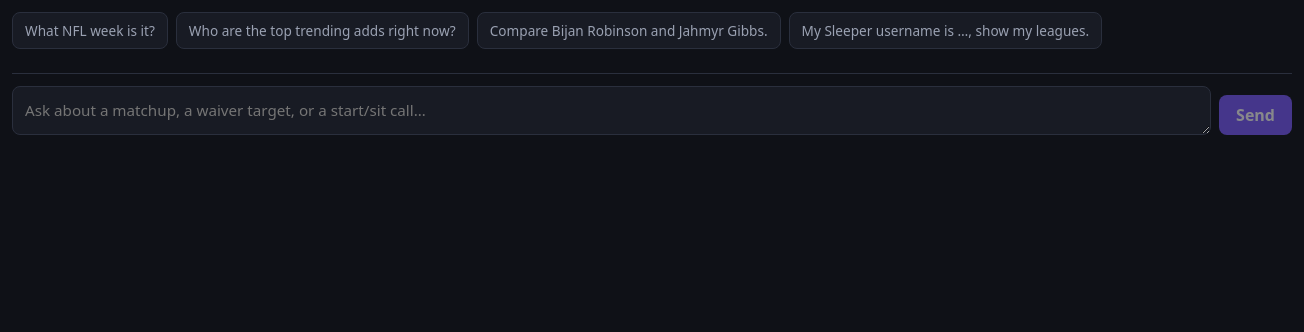
Test: ChatPage › surfaces a model error
Type "hi" into the text box labelled "Ask about a matchup, a waiver target, or a start/sit call…". click: (612, 110)
box: left=12, top=86, right=1211, bottom=135
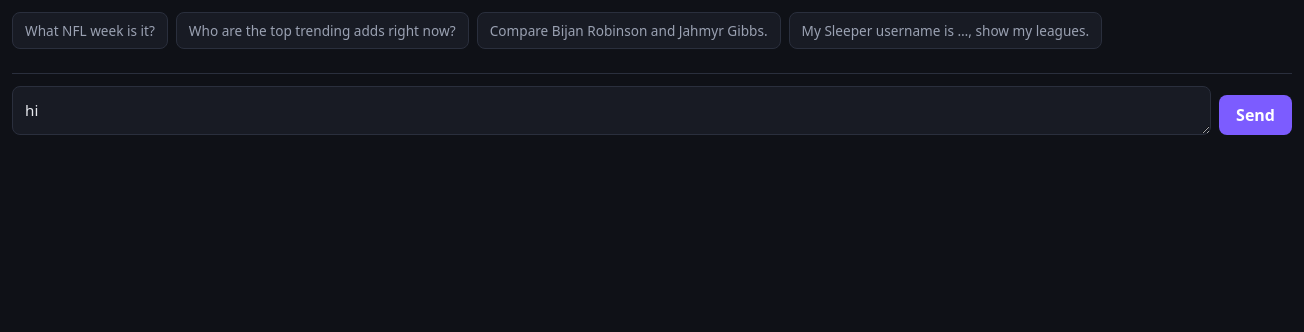
Click the button "Send". click: (1256, 115)
box: left=1219, top=95, right=1292, bottom=135
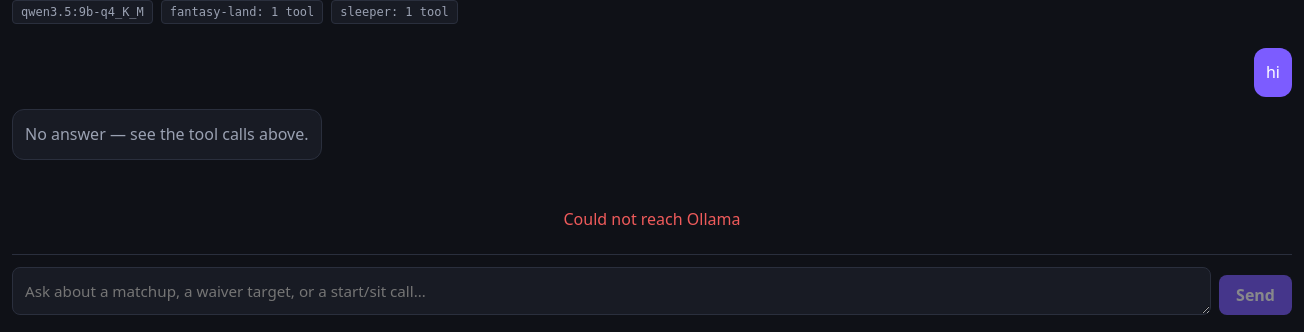
Expected: the message reads "Could not reach Ollama", left=564, top=208, right=740, bottom=230
